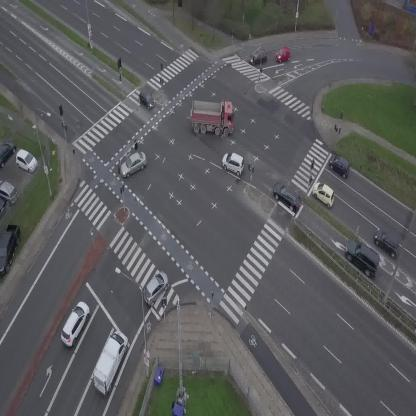car: (338, 235, 388, 281), (57, 299, 95, 348), (138, 268, 174, 308), (268, 180, 306, 213), (370, 225, 406, 259), (116, 149, 150, 179), (308, 178, 340, 209), (218, 149, 248, 177), (326, 152, 354, 178), (135, 90, 157, 111), (247, 49, 269, 66), (273, 46, 292, 64)
lorry: (87, 328, 133, 397), (190, 99, 235, 136)
